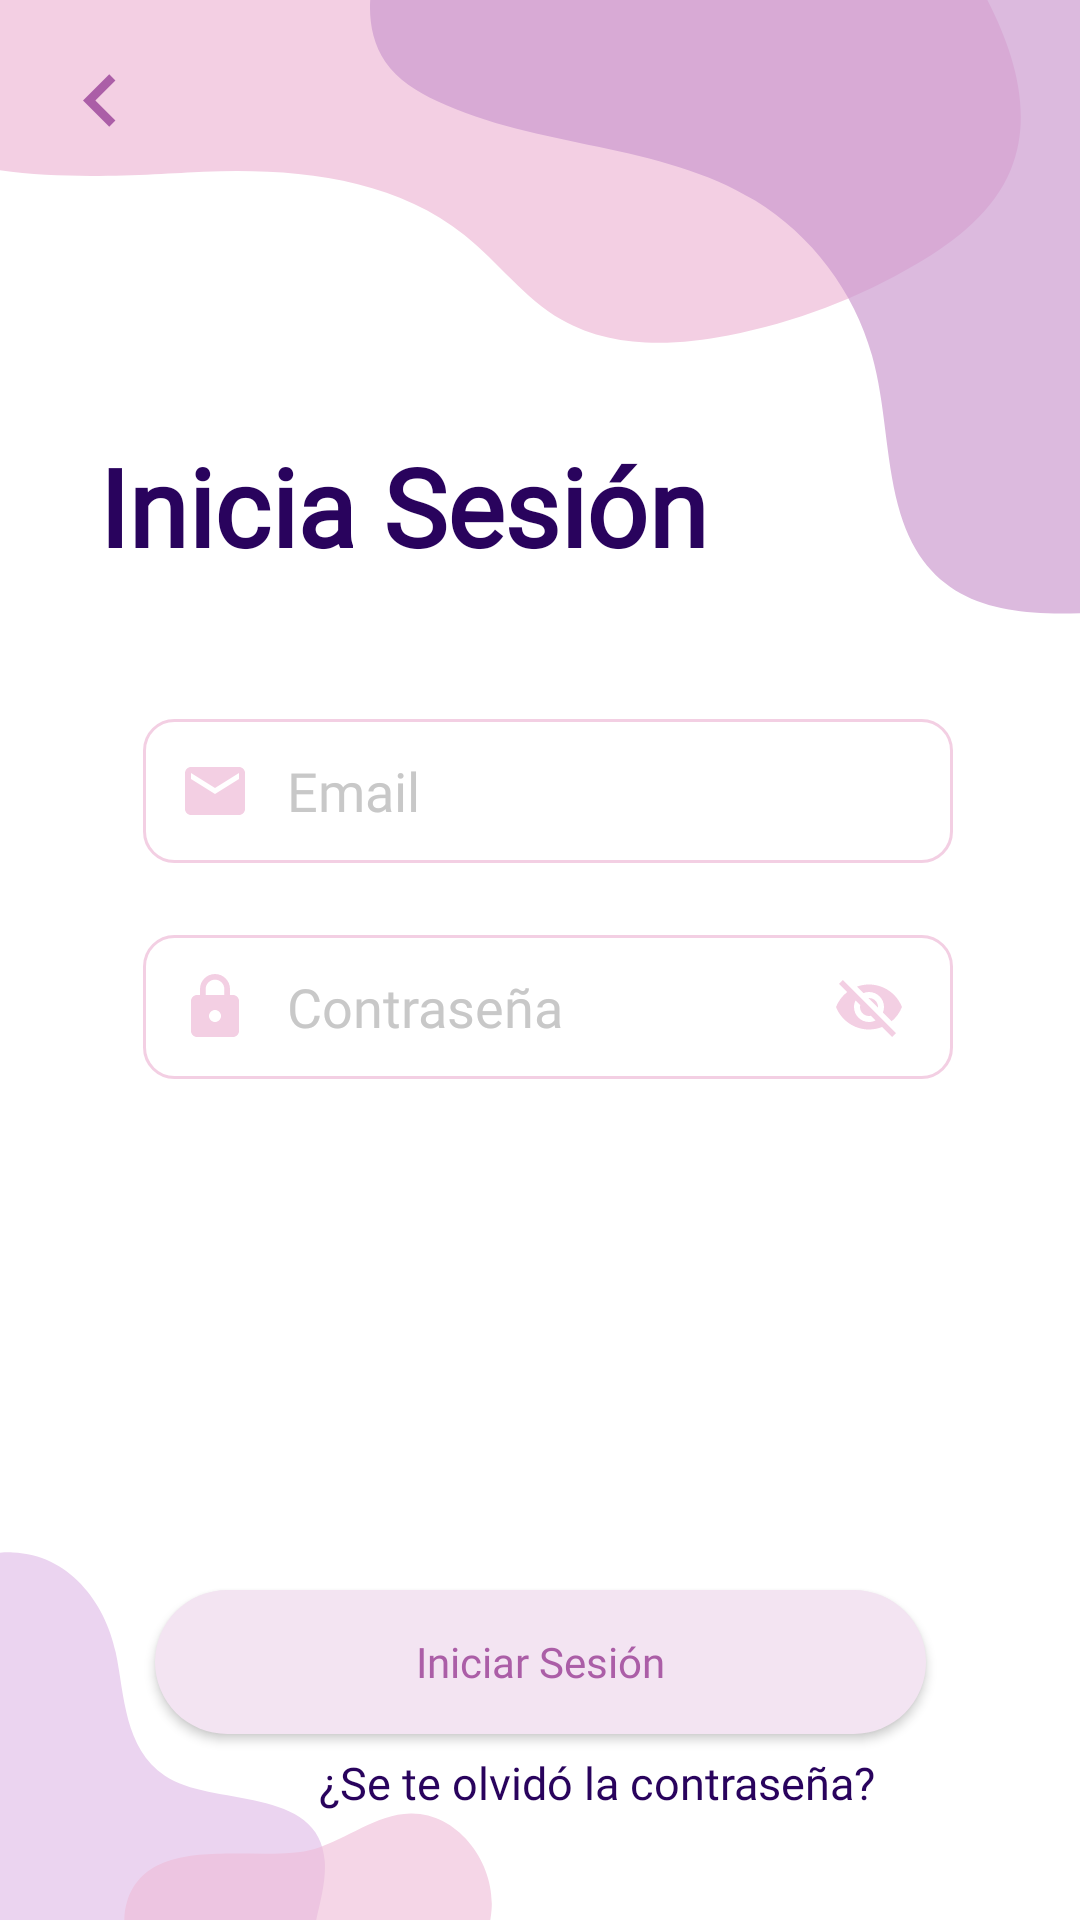

Named icons in this screenshot (1080*1920) and their centers, (x,y):
chevron left: (99,100)
lock: (215,1005)
psw eye off: (869,1008)
